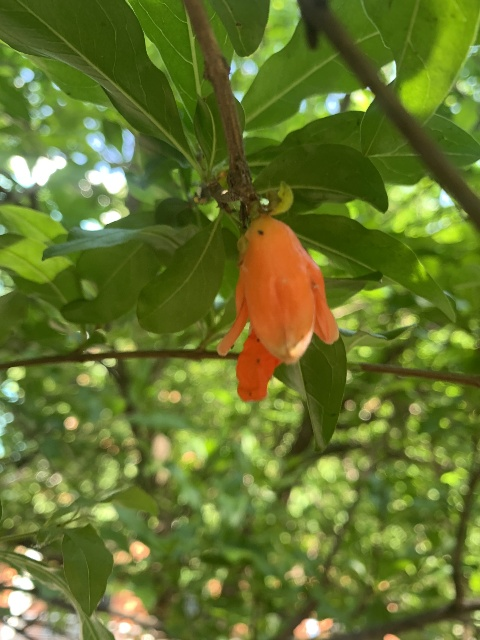flower: (218, 214, 339, 403)
